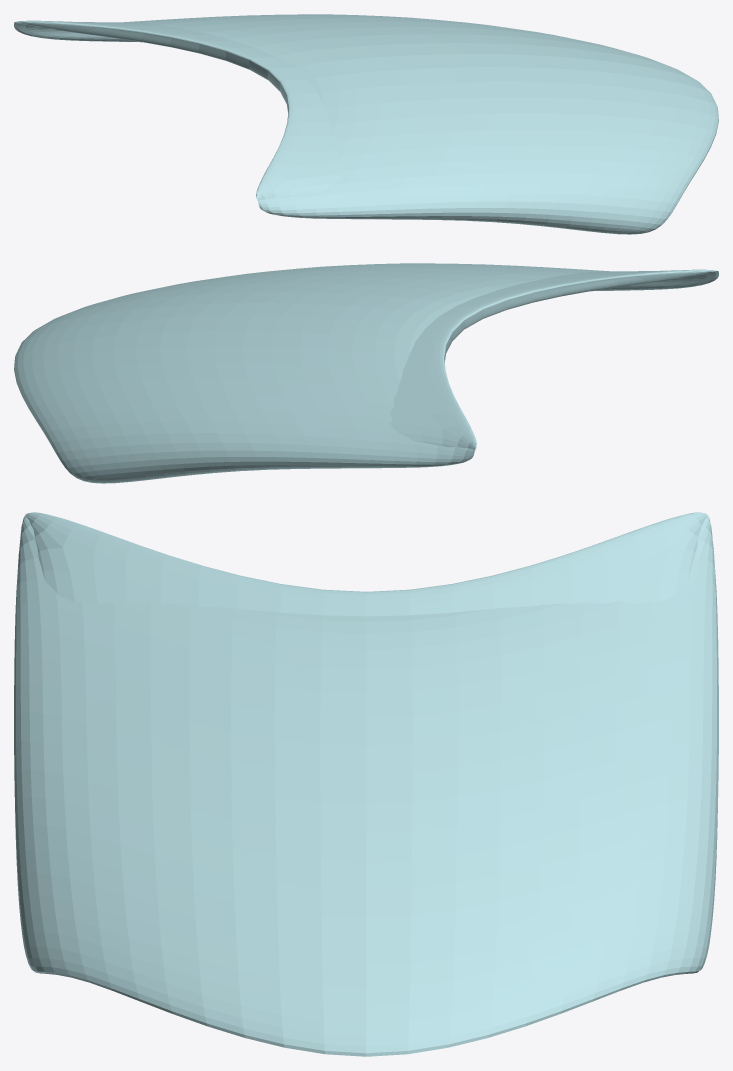
File: spaceship_cockpit.glb
3 views of the same model, one above another, from view 1: azimuth 30°, elevation 25°; view 2: azimuth 150°, elevation 25°; view 3: azimuth 270°, elevation 25° (orthographic). The views are drawn at different scales.
Visible parts, largest first — view 1: Robo_spacecraft_cockpot; view 2: Robo_spacecraft_cockpot; view 3: Robo_spacecraft_cockpot.
Boxes of the visible parts, bbox=[...] form: Robo_spacecraft_cockpot: bbox=[14, 14, 718, 234]; Robo_spacecraft_cockpot: bbox=[14, 263, 718, 483]; Robo_spacecraft_cockpot: bbox=[14, 512, 718, 1056].
Size of the model in its own units: 2.63 by 0.6213 by 2.03.
